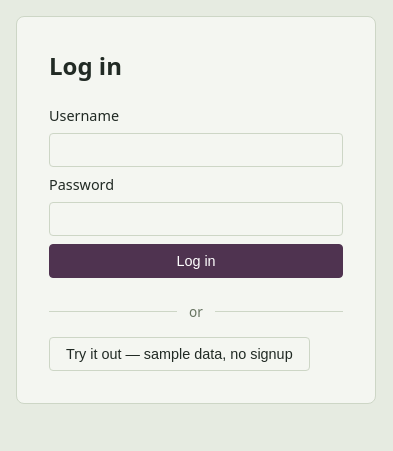
Test case: Login error branches › shows an error (not an unhandled rejection) when fetch rejects with a network error
The width and height of the screenshot is (393, 451).
Step 1. Type "antonio" into the field labelled "Username" → (196, 150), box [49,133,343,167]
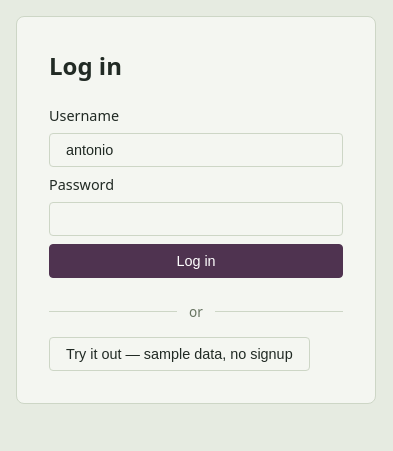
Step 2. Type "secret" into the password field labelled "Password" → (196, 219), box [49,202,343,236]
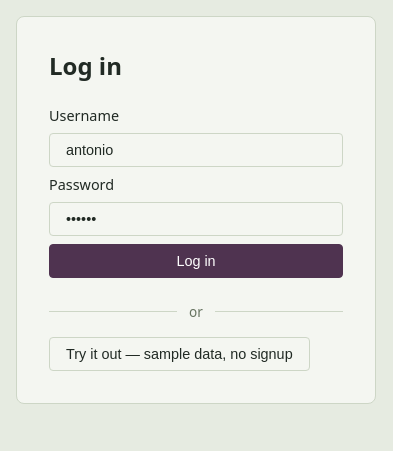
Step 3. Click the button "Log in" → (196, 261), box [49,244,343,278]
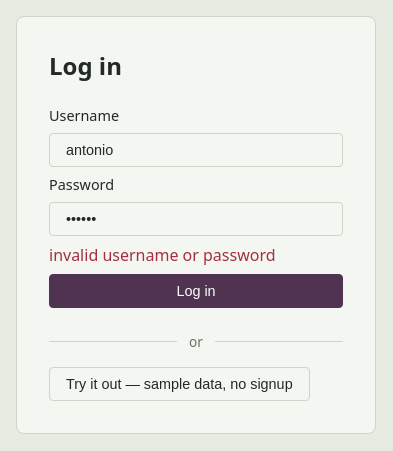
Expected: the message shows "invalid", [49,244,276,266]
